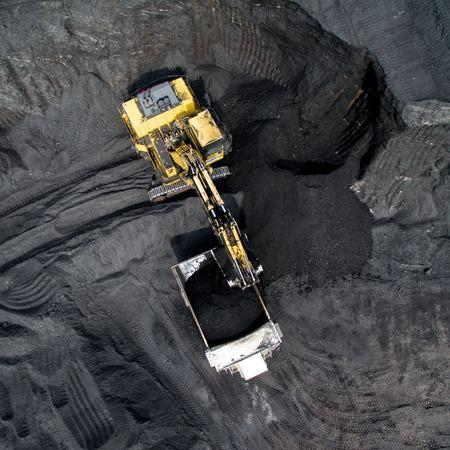EXCAVATORS: (115, 69, 276, 293)
dump truck: (167, 241, 286, 385)
